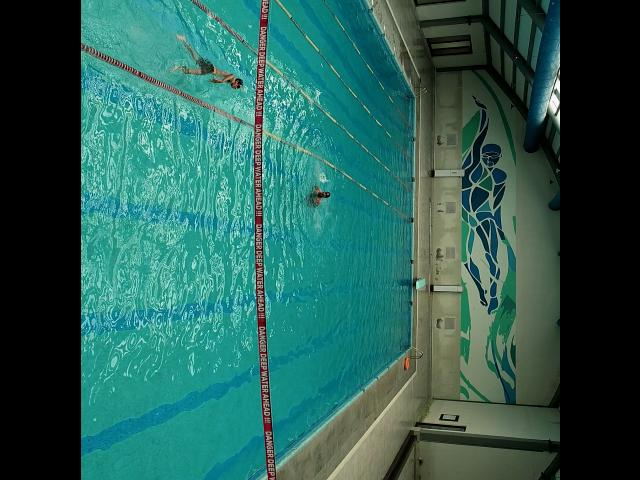swimming: (170, 35, 243, 90), (305, 186, 330, 210)
